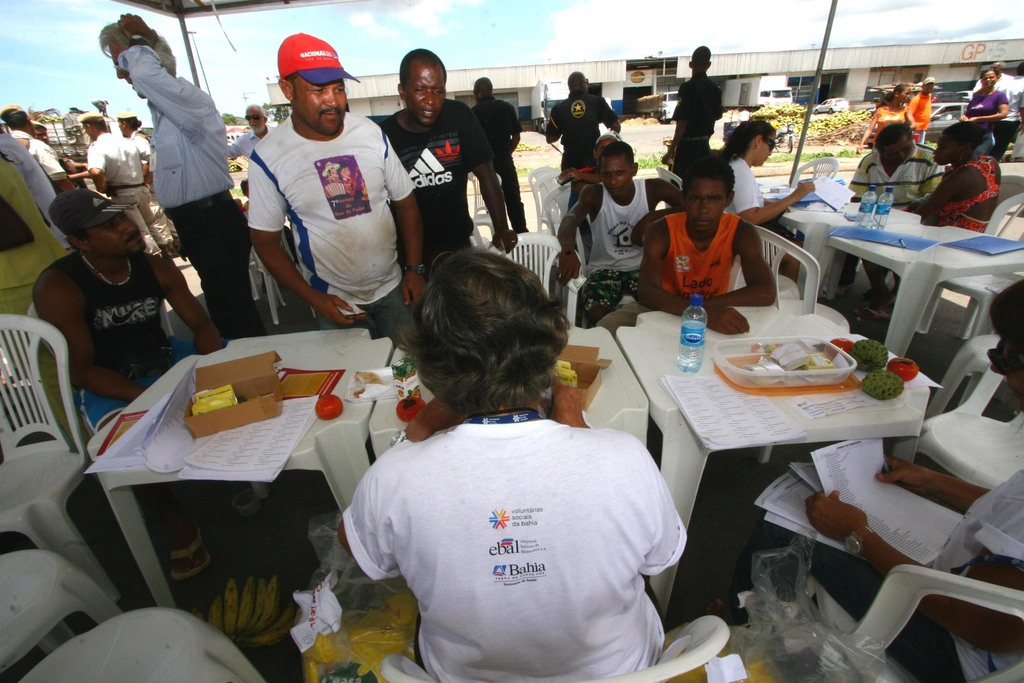Human_hand: (806, 487, 872, 545), (872, 456, 931, 498), (409, 394, 469, 434), (539, 377, 586, 428), (313, 295, 359, 327), (115, 13, 159, 43), (553, 249, 582, 290), (400, 270, 426, 308), (701, 311, 749, 331), (492, 230, 519, 255), (629, 226, 649, 249), (794, 181, 815, 199)
